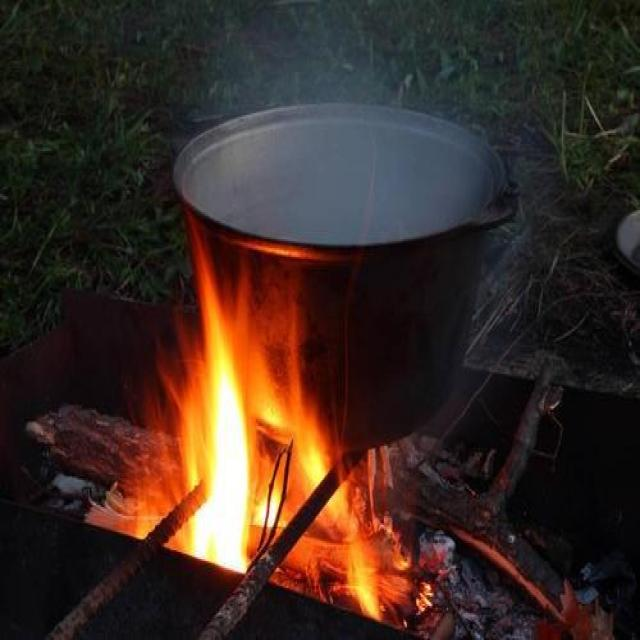fire: (110, 192, 436, 628)
